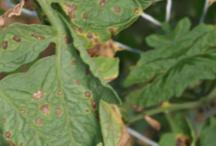Tomato Early blight leaf: (13, 16, 151, 146), (44, 0, 145, 52), (2, 1, 69, 66), (138, 109, 204, 146)
